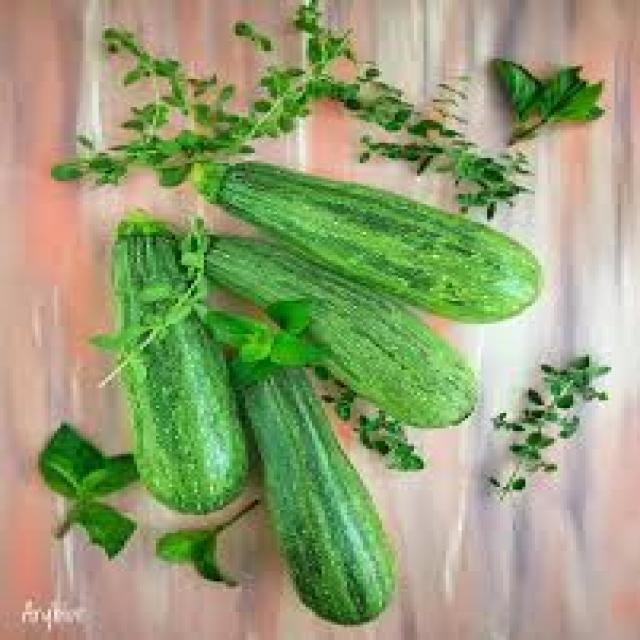Zucchini: (111, 218, 250, 511)
